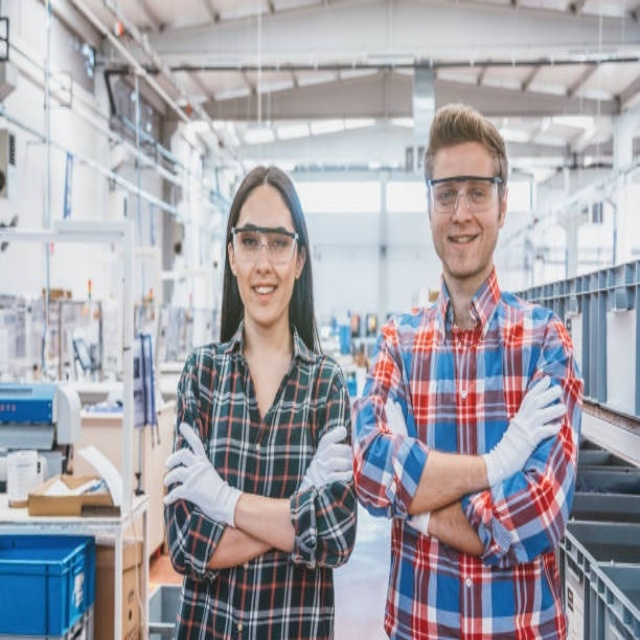Gafas: (428, 178, 503, 214), (231, 227, 300, 266)
Guantes: (483, 375, 566, 487), (164, 423, 241, 527), (296, 426, 353, 497), (383, 393, 409, 441)
Sin_mascara: (442, 226, 482, 271), (247, 278, 278, 315)
